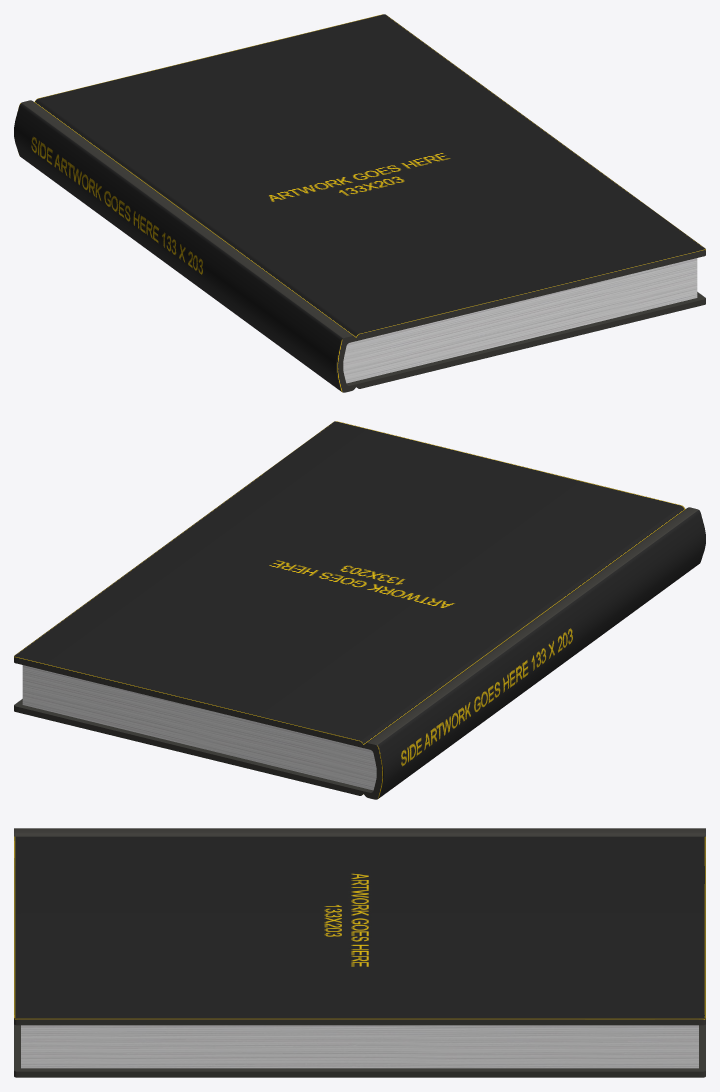
Rendered from Book_MD.gltf.
The picture shows the model from 3 angles, top to bottom: view 1: azimuth 30°, elevation 25°; view 2: azimuth 150°, elevation 25°; view 3: azimuth 270°, elevation 25°; orthographic projection. The views are drawn at different scales.
Parts seen in each view (by area): view 1: Book_133x203; view 2: Book_133x203; view 3: Book_133x203.
Part boxes in pixels (box(x1,y1,x2,y2)): Book_133x203: box(14, 14, 705, 392); Book_133x203: box(14, 421, 705, 799); Book_133x203: box(14, 828, 705, 1077).
Bounding box in the file's own units: 0.138 × 0.0195 × 0.2075.
Materials: 4 (4 with a texture image).
